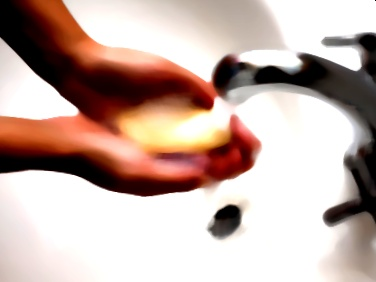washing hand: (44, 6, 325, 251)
